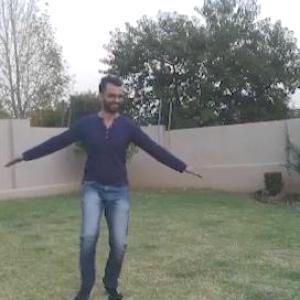land: (1, 59, 202, 299)
